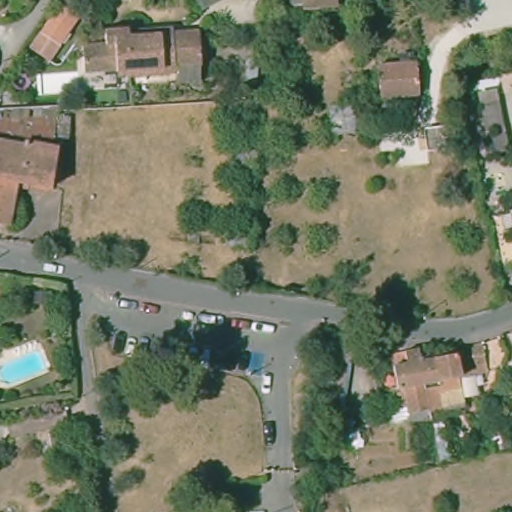pool: (1, 331, 52, 389)
